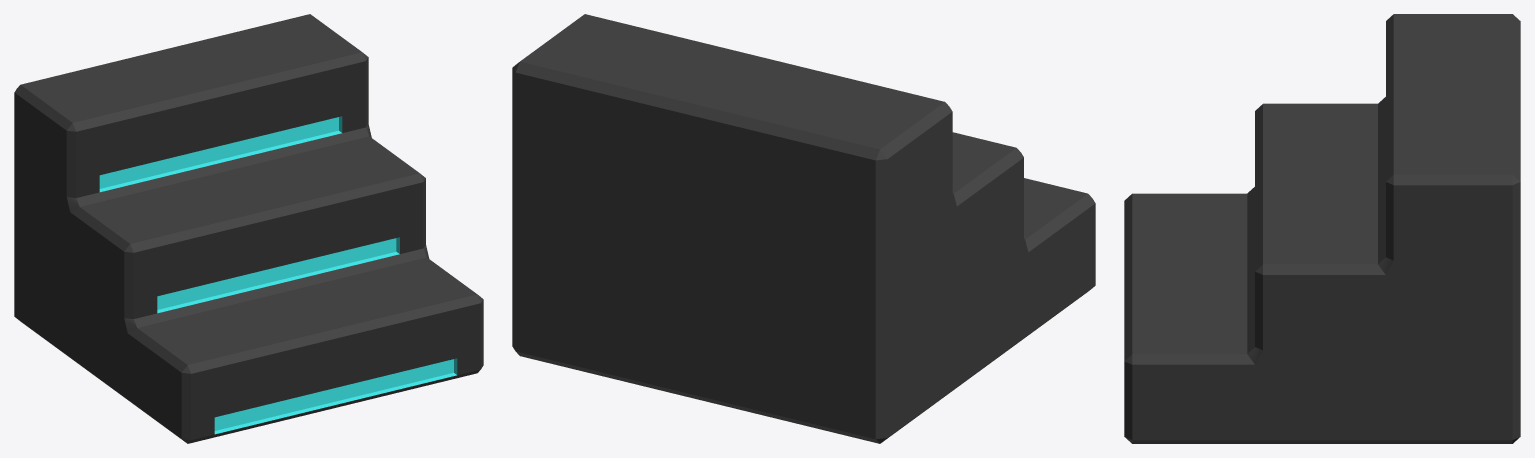
File: HJD_SFB_Stairs_01.fbx
3 renders of one model, left to right at view 1: azimuth 30°, elevation 25°; view 2: azimuth 150°, elevation 25°; view 3: azimuth 270°, elevation 25°, orthographic. The views are drawn at different scales.
Visible parts, largest first — view 1: HJD_SFB_Asset; view 2: HJD_SFB_Asset; view 3: HJD_SFB_Asset.
Boxes of the visible parts, x1=… form: HJD_SFB_Asset: x1=14, y1=14, x2=483, y2=443; HJD_SFB_Asset: x1=512, y1=14, x2=1095, y2=443; HJD_SFB_Asset: x1=1124, y1=14, x2=1520, y2=443.
Bounding box in the file's own units: 100 × 75 × 100.
